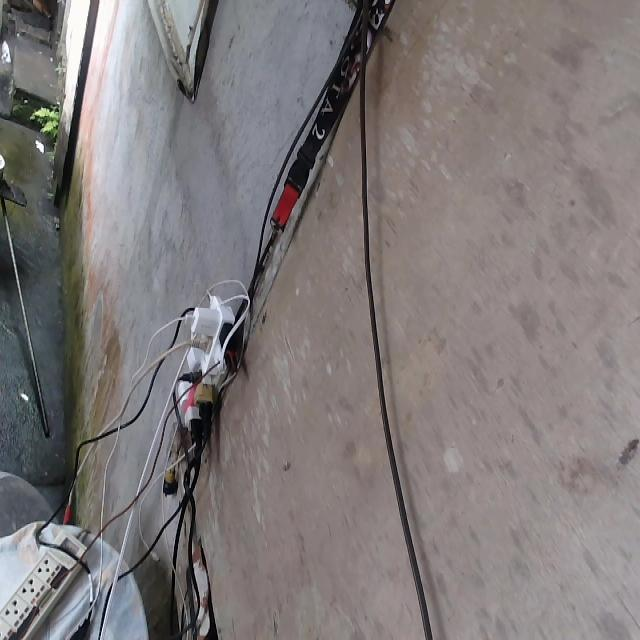-: (175, 295, 236, 433)
